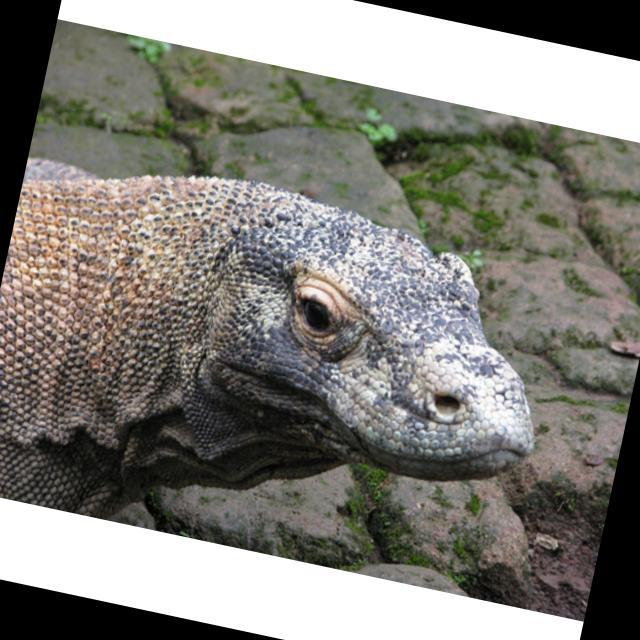KomodoDragon: (0, 129, 573, 600)
